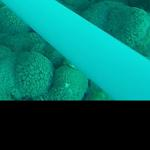alive: (1, 10, 147, 99)
